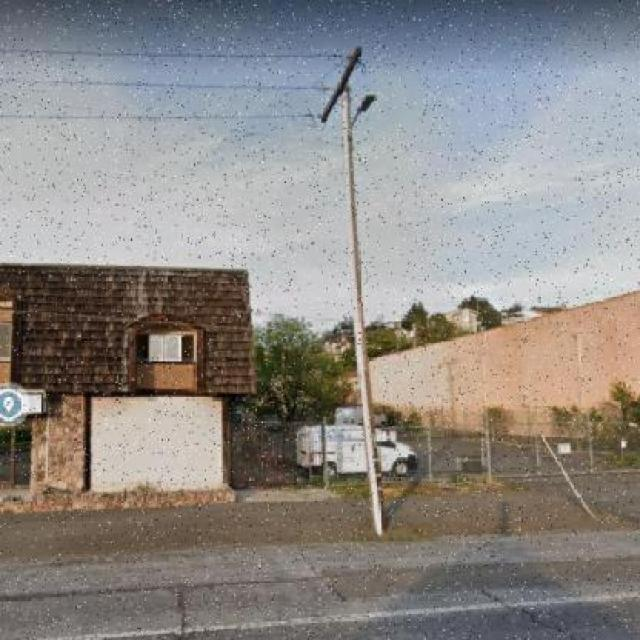pole: (286, 23, 400, 557)
